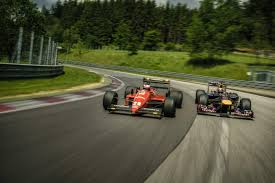FormulaOneCar: (101, 75, 185, 120), (193, 79, 260, 127)
